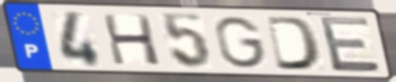4: (58, 9, 104, 69)
5: (156, 12, 216, 71)
D: (263, 15, 324, 72)
E: (316, 15, 384, 74)
G: (212, 15, 270, 70)
H: (99, 12, 164, 67)
